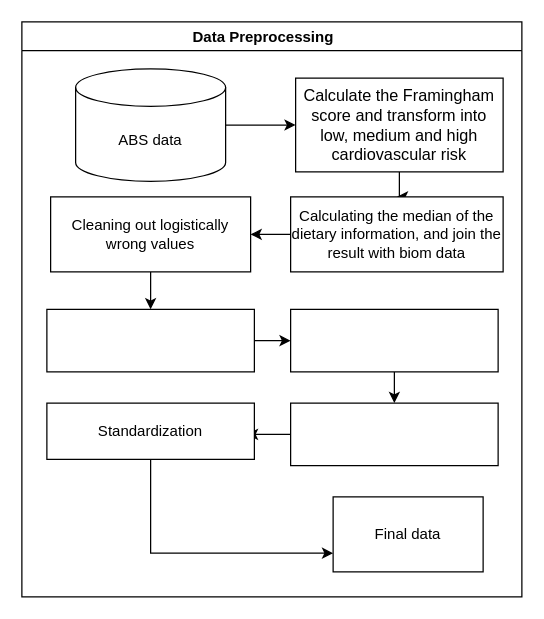
Image size: 544x619. Some labels were removed from this diagram. The shapes that lost their labels are listed below. From the top down, each one's box as (x1, y1, x2, y2) in pixels, then its label:
(46, 308, 254, 372): Removing variables with very low variance, and high missingness
(289, 308, 498, 372): Drop missing values
(289, 402, 498, 466): Log transformation, log (x+1) for numeric data
